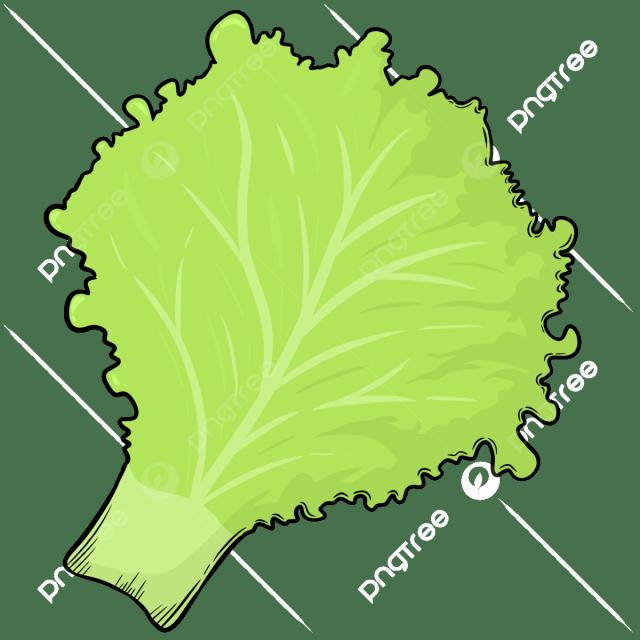lettuce: (39, 9, 598, 633)
